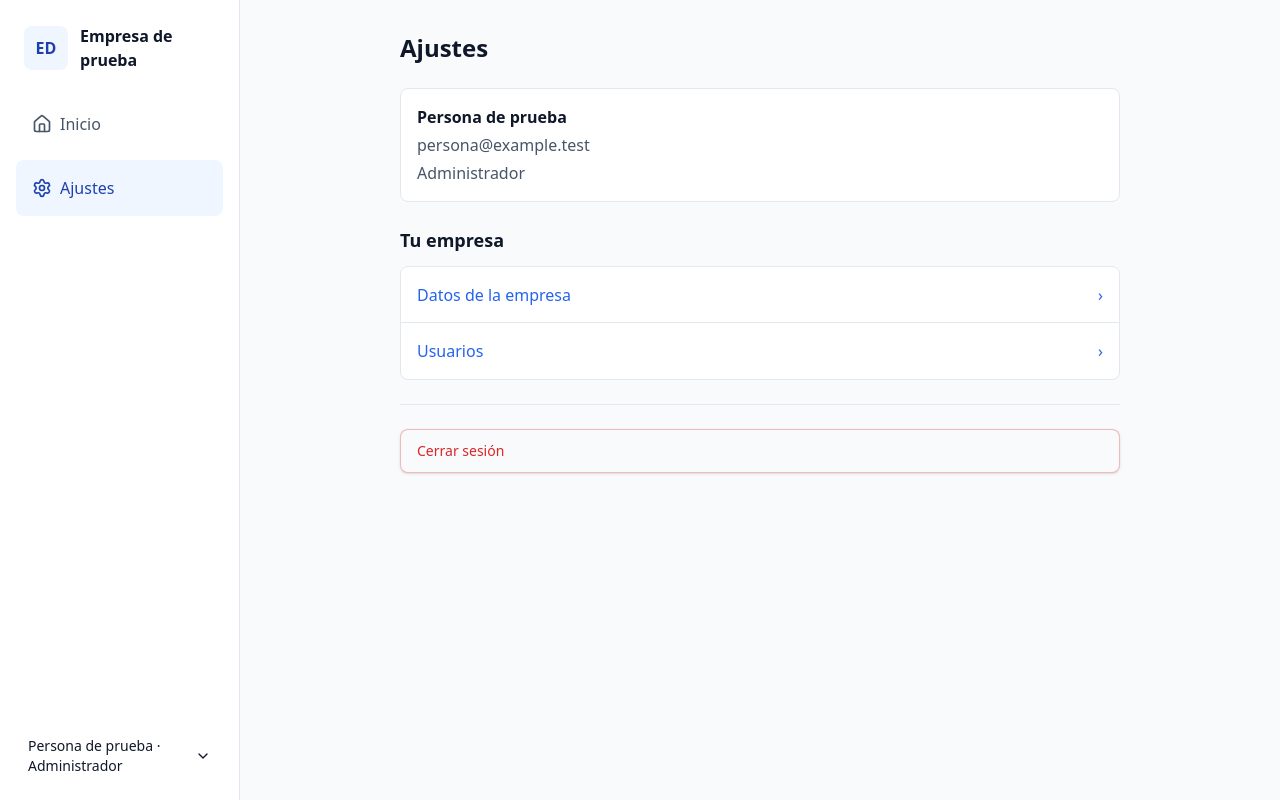
Test case: logout navigation › logs out from Settings and does not restore the old session on Back
Expected: the heading "Ajustes" is shown, [400,32,488,64]
What coordinates should you click on to do the following:
click the button "Cerrar sesión"
I would click on:
 (461, 450)
Its box is [400,429,1120,473].
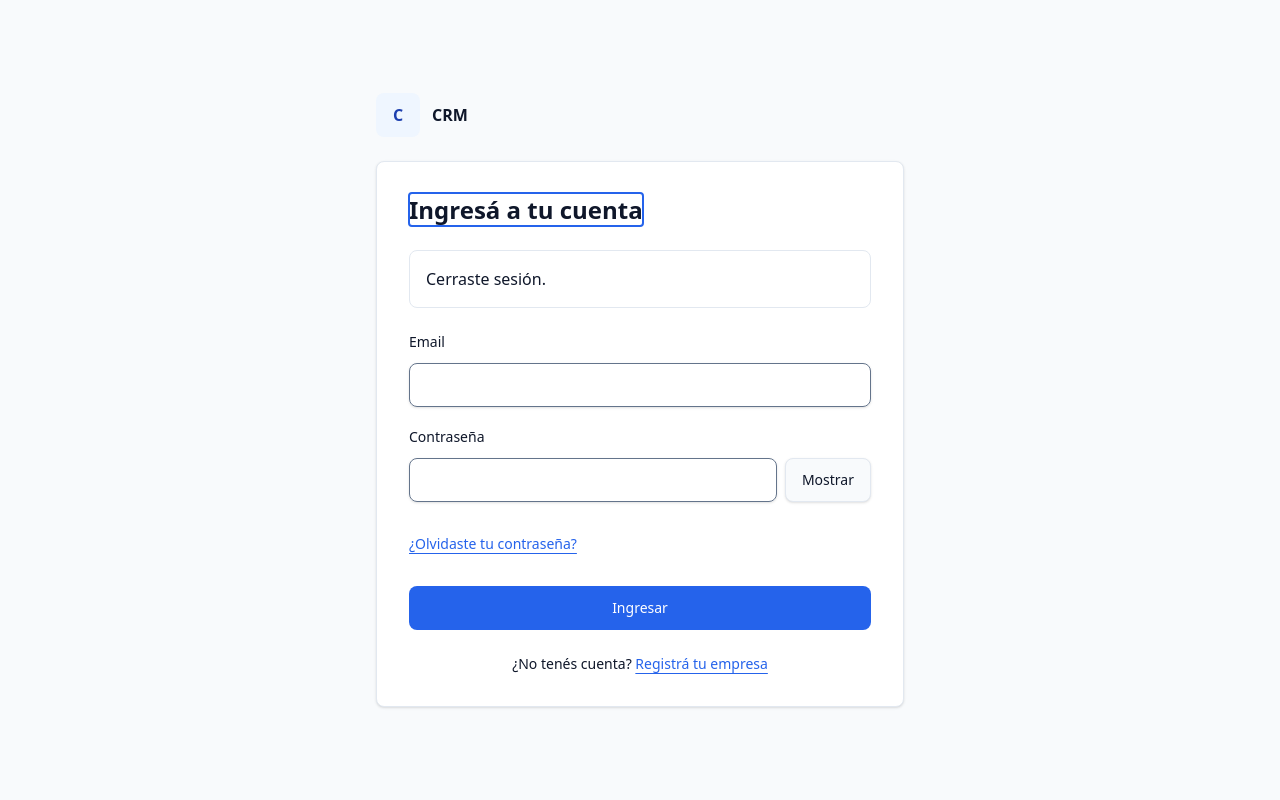
Now the text "Cerraste sesión." is shown, box [426,268,546,290]
